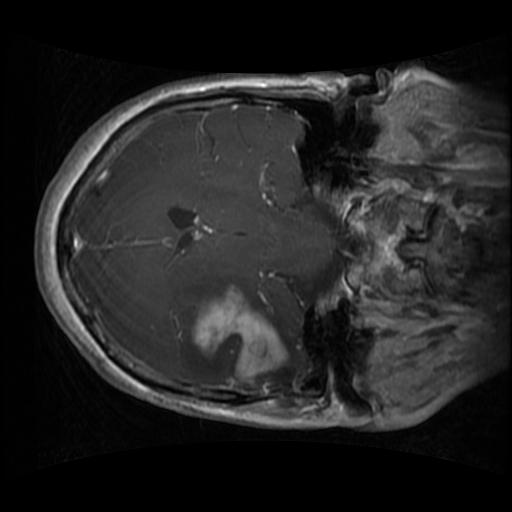glioma: (178, 279, 297, 392)
